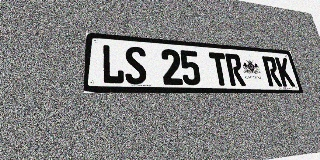2: (161, 49, 183, 85)
5: (180, 50, 202, 85)
K: (275, 57, 295, 87)
L: (101, 44, 125, 84)
R: (225, 53, 246, 86), (262, 56, 282, 86)
S: (124, 46, 147, 85)
T: (209, 52, 230, 86)
